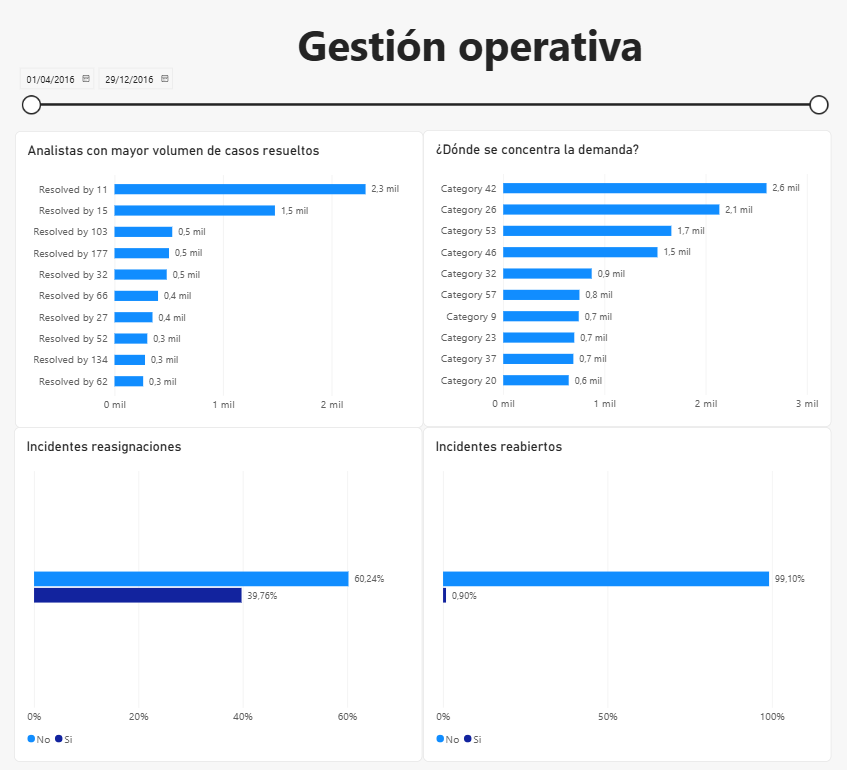

The page's visual inventory and layout, read from the dashboard file:
{"tool":"powerbi","page":{"name":"Detalle de los casos","canvas":[1920,1080],"ordinal":2},"visuals":[{"type":"clusteredBarChart","title":"Analistas con mayor volumen de casos resueltos","fields":{"Category":["incident_powerbi_single.resolved_by"],"Y":["CountNonNull(incident_powerbi_single.number)"]},"box":[29.1,209.6,550,400],"z":0},{"type":"slicer","title":"Intervalo de Revision","fields":{"Values":["incident_powerbi_single.opened_at_date"]},"box":[28.6,120,1100,74.3],"z":1000},{"type":"clusteredBarChart","title":"Incidentes reasignaciones","fields":{"Series":["incident_powerbi_single.Casos_reasignados?"],"Y":["CountNonNull(incident_powerbi_single.number)"]},"box":[28.6,609,550,451.4],"z":2000},{"type":"clusteredBarChart","title":"¿Dónde se concentra la demanda?","fields":{"Category":["incident_powerbi_single.category"],"Y":["CountNonNull(incident_powerbi_single.number)"]},"box":[578.6,209,550,400],"z":3000},{"type":"clusteredBarChart","title":"Incidentes reabiertos","fields":{"Series":["incident_powerbi_single.Casos_reabiertos?"],"Y":["CountNonNull(incident_powerbi_single.number)"]},"box":[578.6,609,550,451.4],"z":3001},{"type":"textbox","box":[373.8,55,536.7,85],"z":3002}]}

Visuals, with their boxes on the page's 1920x1080 design canvas (x1, y1, x2, y2). These are canvas units, not pixel positions in the 847x770 screenshot, which may show the page scaled, cropped or inside an application window:
"Analistas con mayor volumen de casos resueltos" clusteredBarChart: 29:210:579:610
"Intervalo de Revision" slicer: 29:120:1129:194
"Incidentes reasignaciones" clusteredBarChart: 29:609:579:1060
"¿Dónde se concentra la demanda?" clusteredBarChart: 579:209:1129:609
"Incidentes reabiertos" clusteredBarChart: 579:609:1129:1060
textbox: 374:55:910:140
